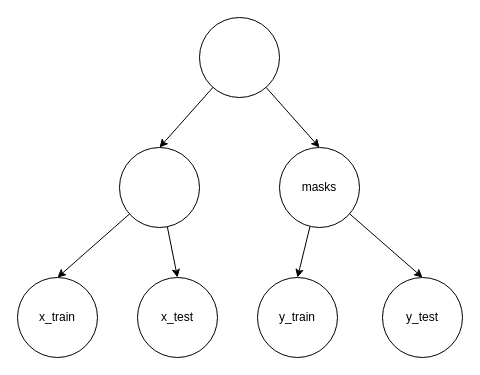
Image size: 480x375. Some labels were removed from this diagram. The centre of each missing label's shape, as x and y in pixels:
"images" goes at pixel 159 187.
"root" goes at pixel 239 57.
